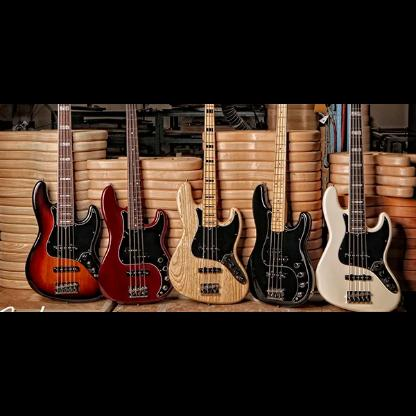bass: (316, 104, 402, 312), (168, 104, 249, 306), (25, 104, 103, 302), (97, 105, 168, 307), (247, 105, 316, 308)
